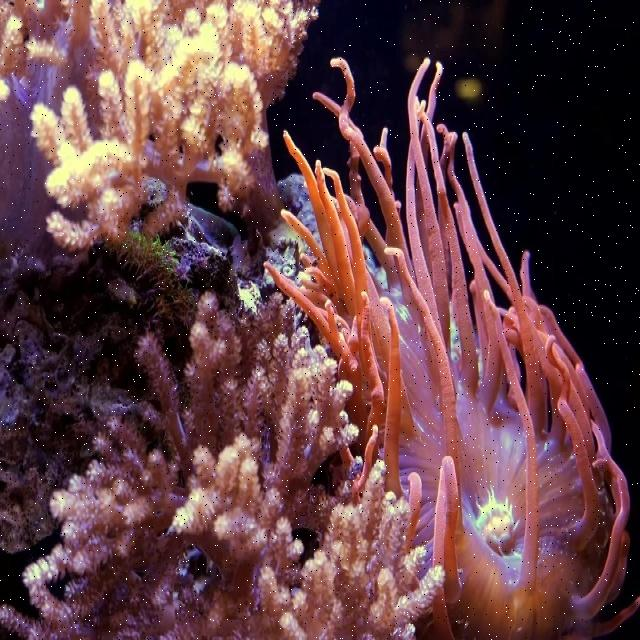reefs: (263, 58, 639, 639), (0, 290, 445, 639), (0, 0, 319, 310)
